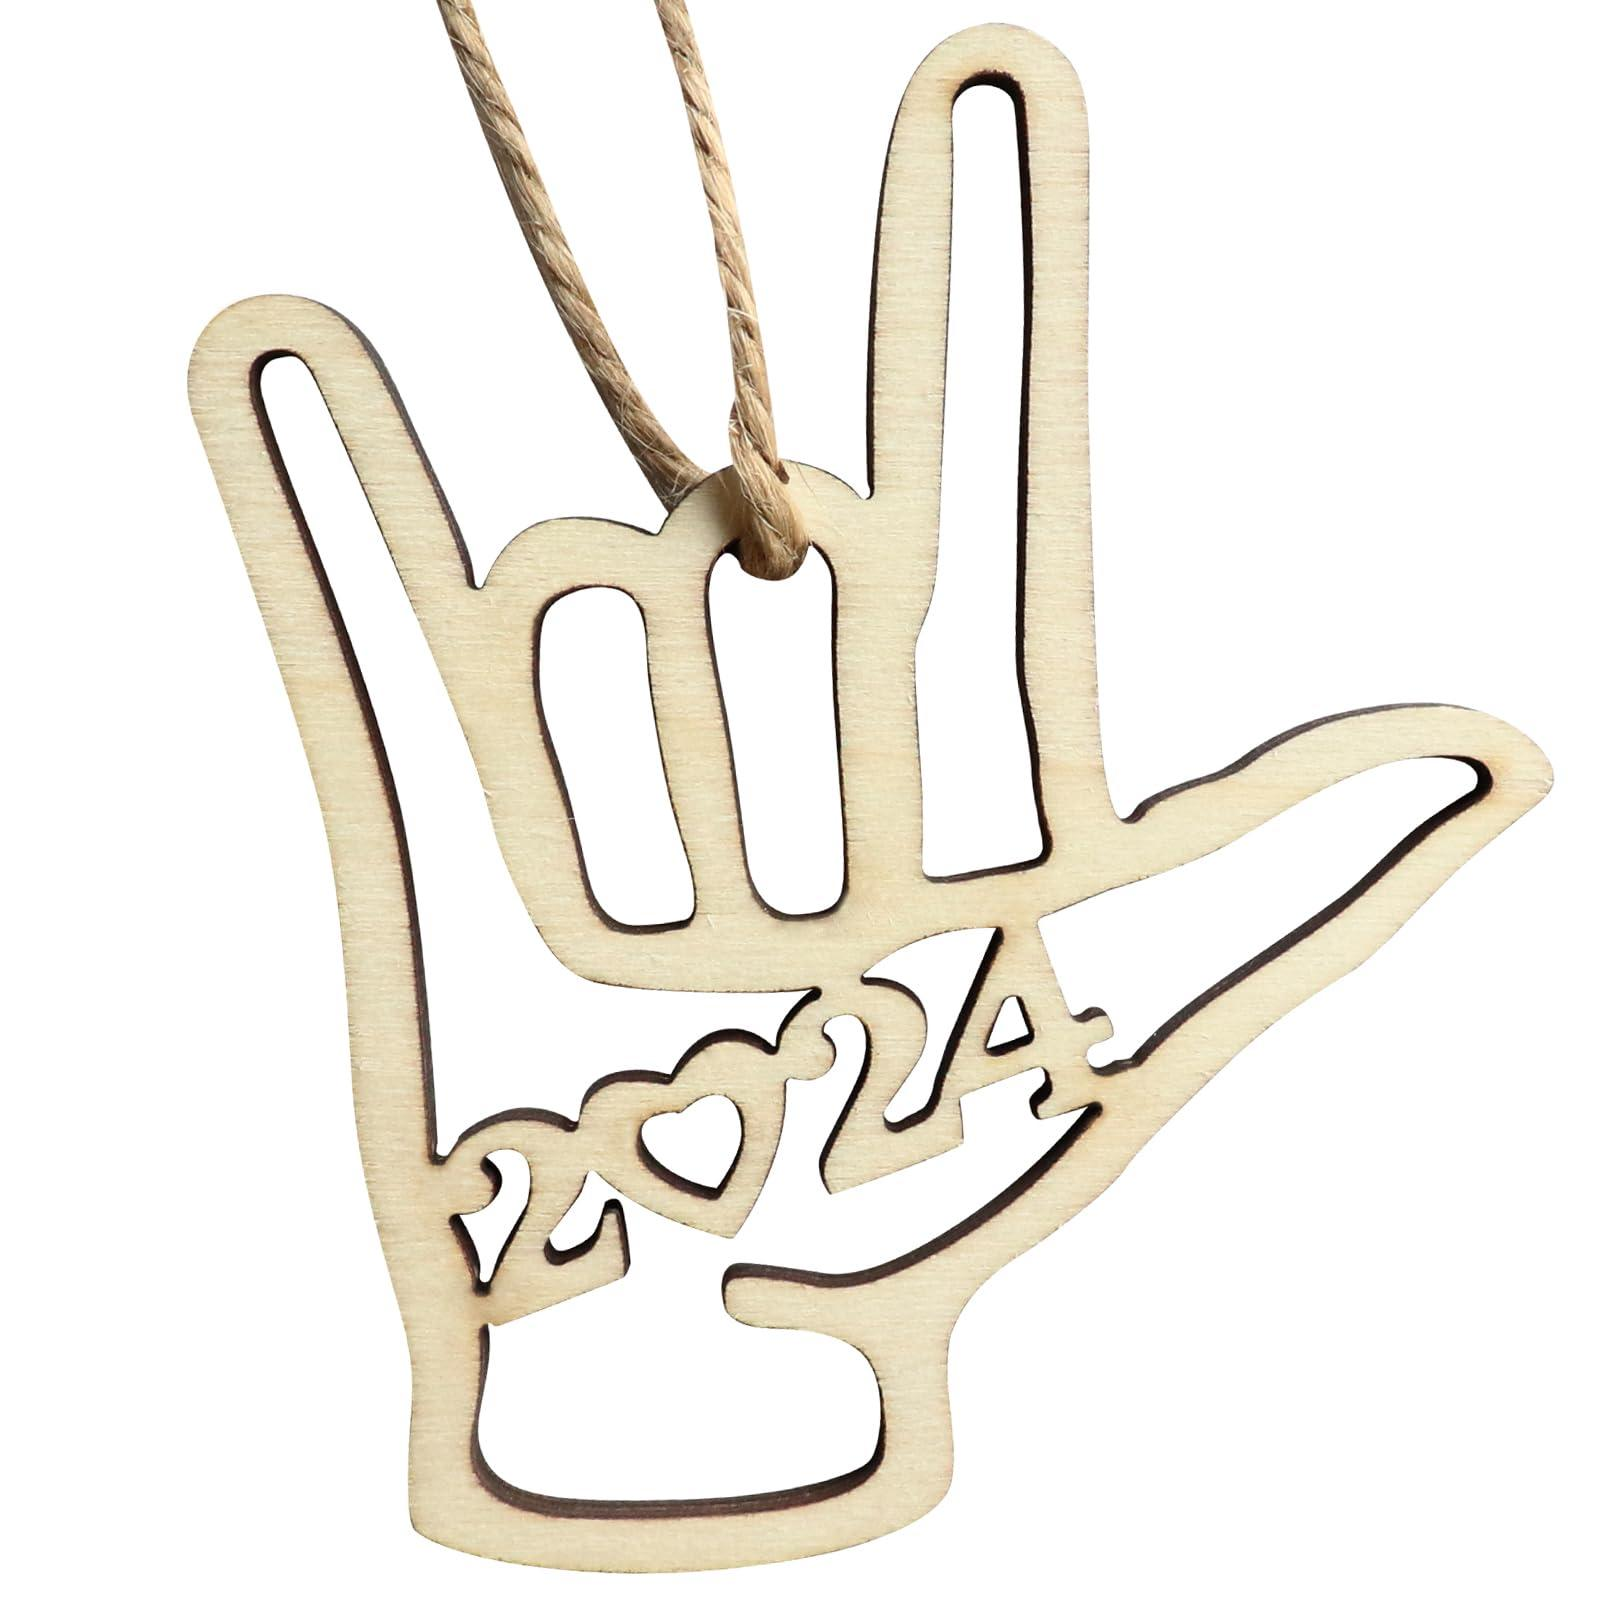Love_you: (127, 37, 1537, 1574)
